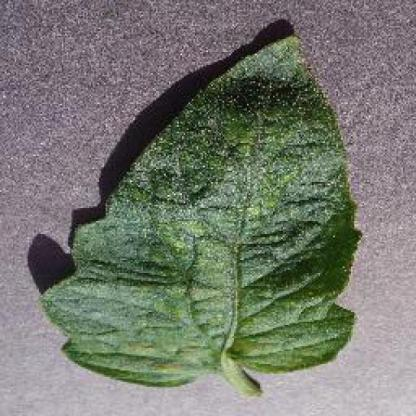Tomato_Spider_Mites: (42, 36, 355, 380)
